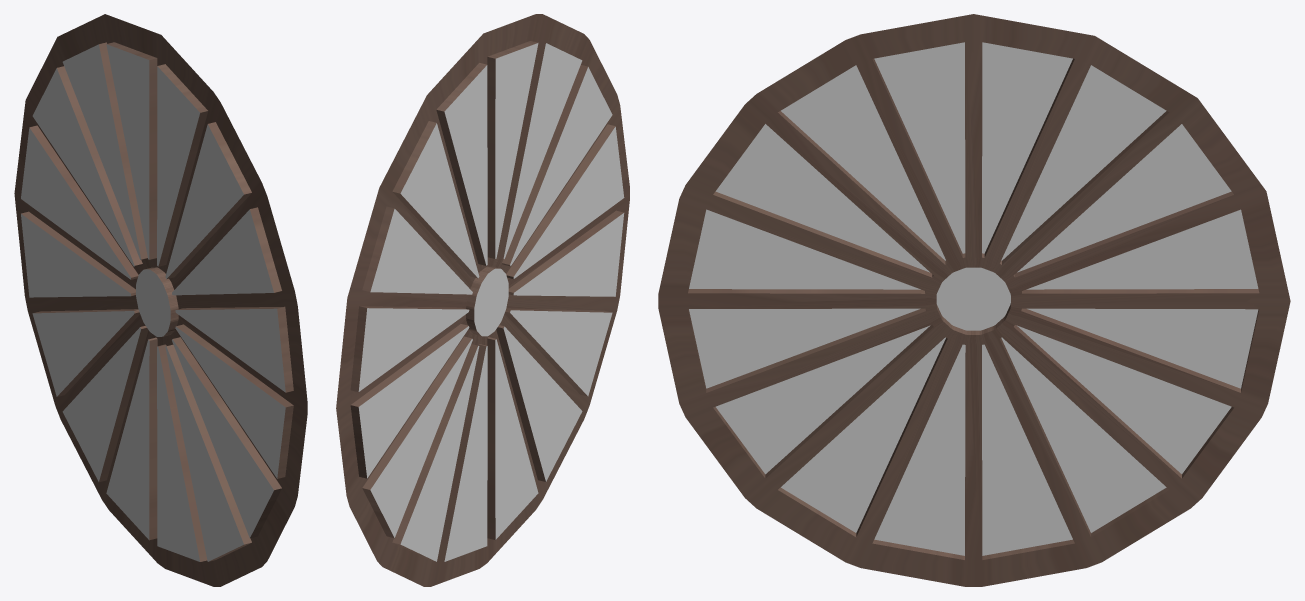
Rendered from CircleWindow.fbx.
3 renders of one model, left to right at view 1: azimuth 30°, elevation 25°; view 2: azimuth 150°, elevation 25°; view 3: azimuth 270°, elevation 25°, orthographic. The views are drawn at different scales.
Parts seen in each view (by area): view 1: Cylinder.001; view 2: Cylinder.001; view 3: Cylinder.001.
Part boxes in pixels (x1=…): Cylinder.001: x1=14, y1=14, x2=307, y2=586; Cylinder.001: x1=336, y1=14, x2=629, y2=586; Cylinder.001: x1=658, y1=14, x2=1290, y2=586.
Size of the model in its own units: 24.28 by 1526 by 1526.
